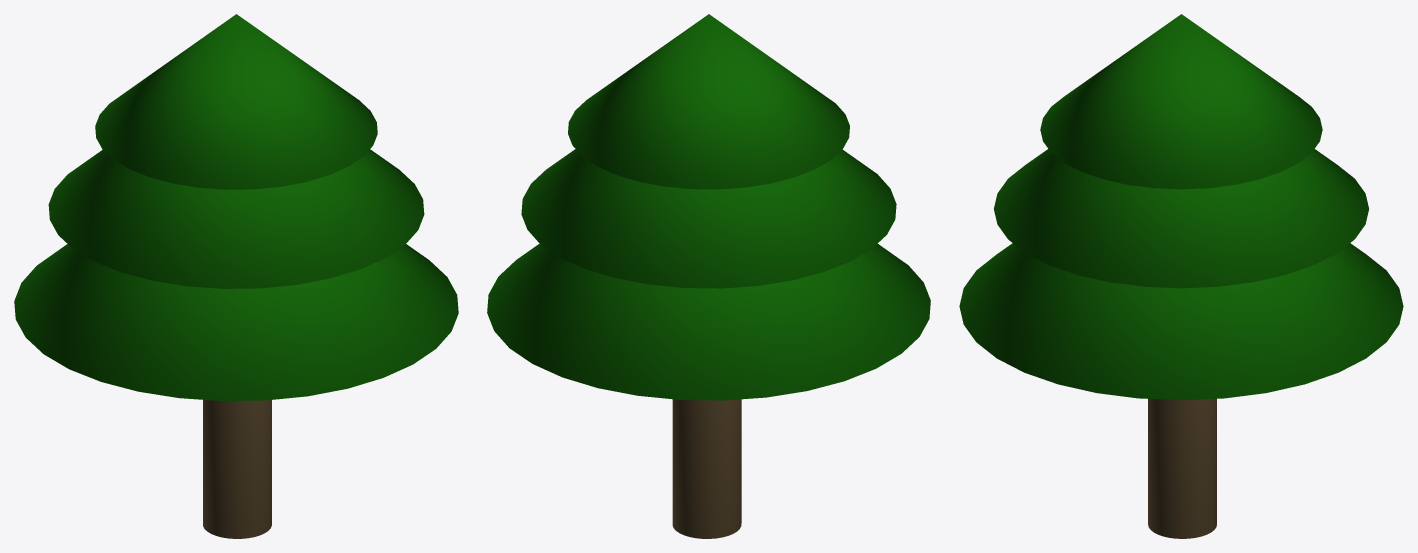
File: Tree.fbx
3 renders of one model, left to right at view 1: azimuth 30°, elevation 25°; view 2: azimuth 150°, elevation 25°; view 3: azimuth 270°, elevation 25°, orthographic.
Parts seen in each view (by area): view 1: Tree; view 2: Tree; view 3: Tree.
Part boxes in pixels (bbox=[...]): Tree: bbox=[14, 14, 458, 538]; Tree: bbox=[487, 14, 930, 538]; Tree: bbox=[959, 14, 1403, 538].
Bounding box in the file's own units: 647 × 647 × 820.
